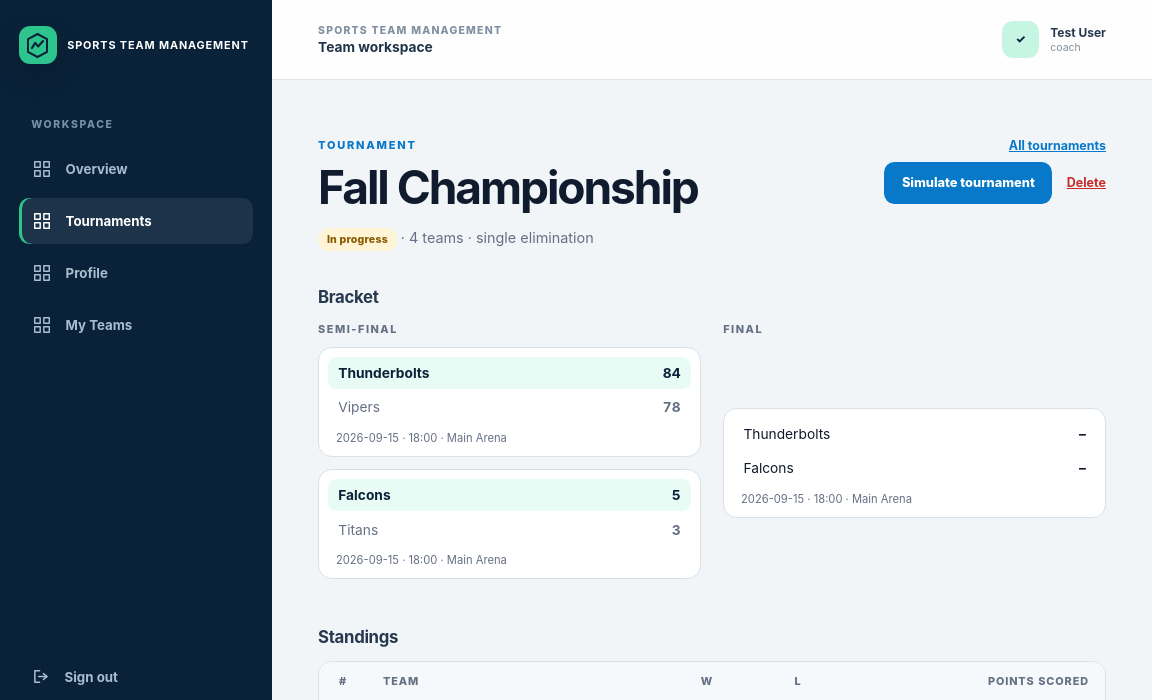
Test: tournaments › lets the creator simulate and then shows the champion
This screenshot has width=1152, height=700.
Click the button "Simulate tournament" at (968, 183), box [884,162,1052,204]
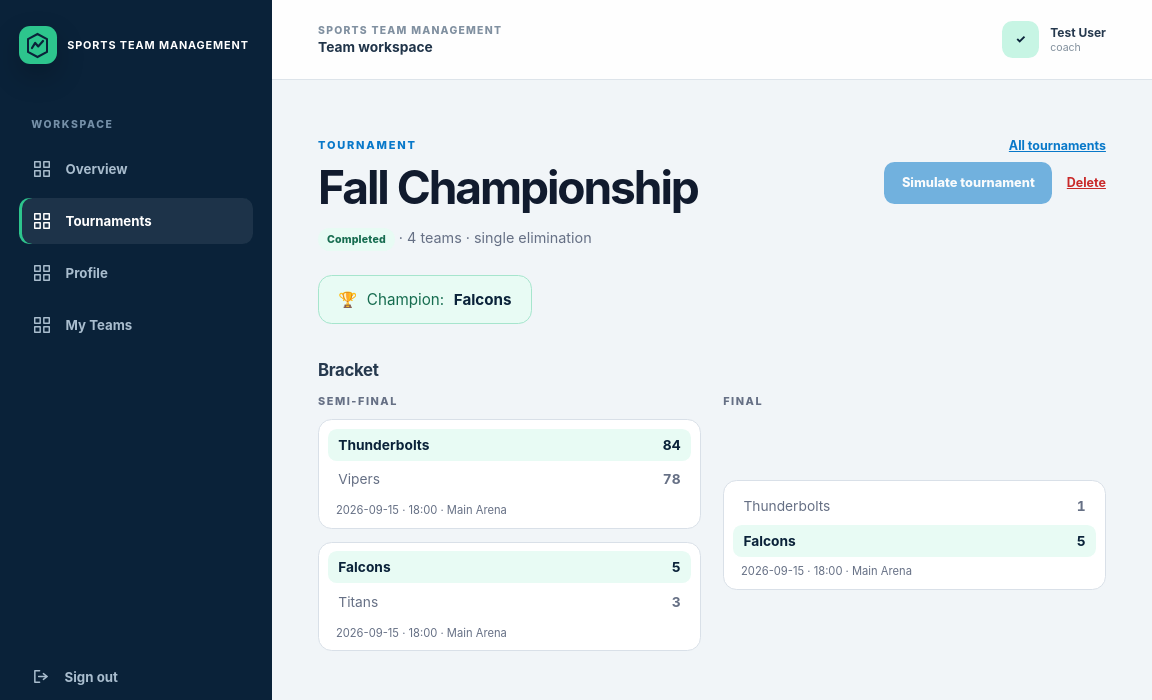
Result: the message shows "Champion: Falcons" at [318,275,532,324]
Result: the button "Simulate tournament" is disabled at [884,162,1052,204]
